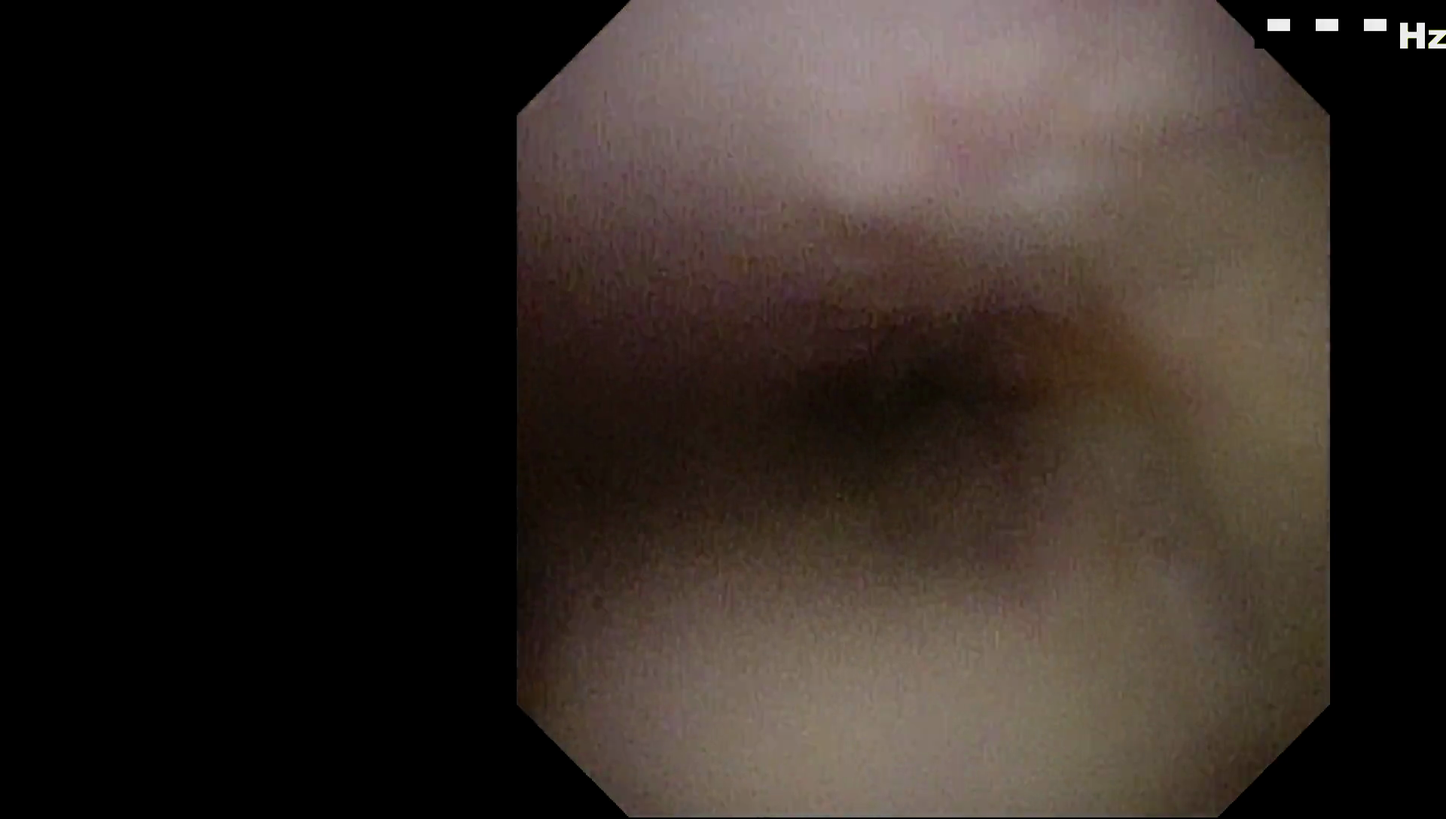next: (705, 276, 1119, 506)
